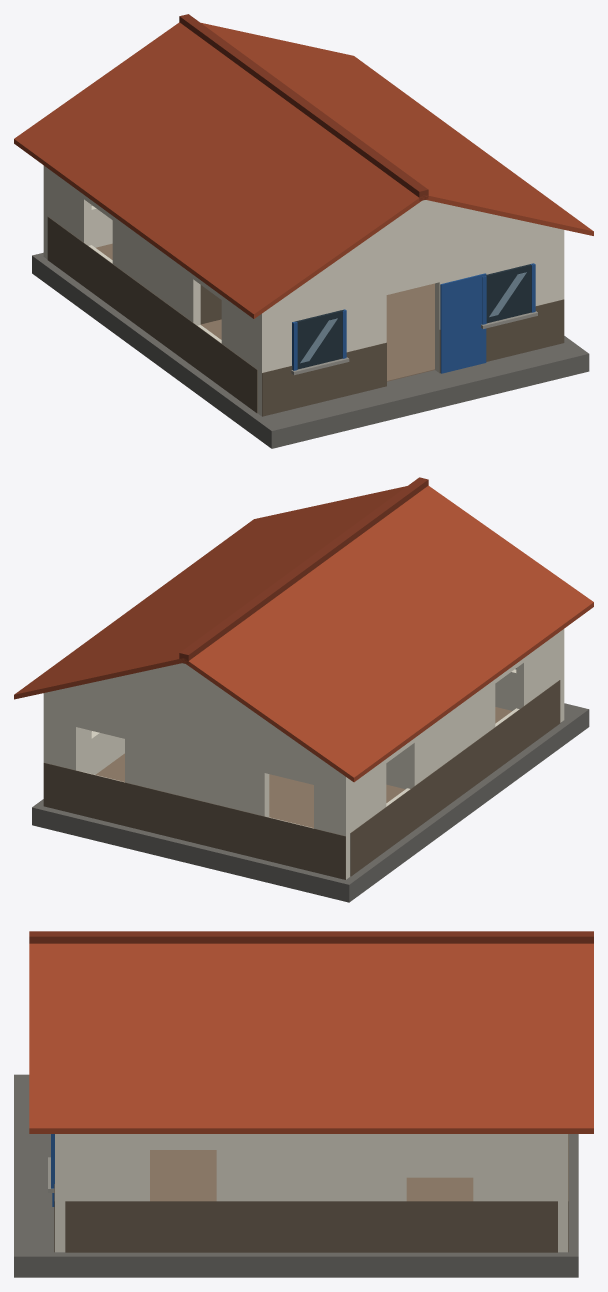
The model's file is casa_faroleiro_a.glb.
3 renders of one model, top to bottom at view 1: azimuth 30°, elevation 25°; view 2: azimuth 150°, elevation 25°; view 3: azimuth 270°, elevation 25°, orthographic. The views are drawn at different scales.
Visible parts, largest first — view 1: casa_faroleiro_a; view 2: casa_faroleiro_a; view 3: casa_faroleiro_a.
Part boxes in pixels (x1,y1,x2,y2): casa_faroleiro_a: (14, 14, 593, 448); casa_faroleiro_a: (14, 477, 593, 902); casa_faroleiro_a: (14, 931, 593, 1277).
Size of the model in its own units: 9 by 5.43 by 11.3.
